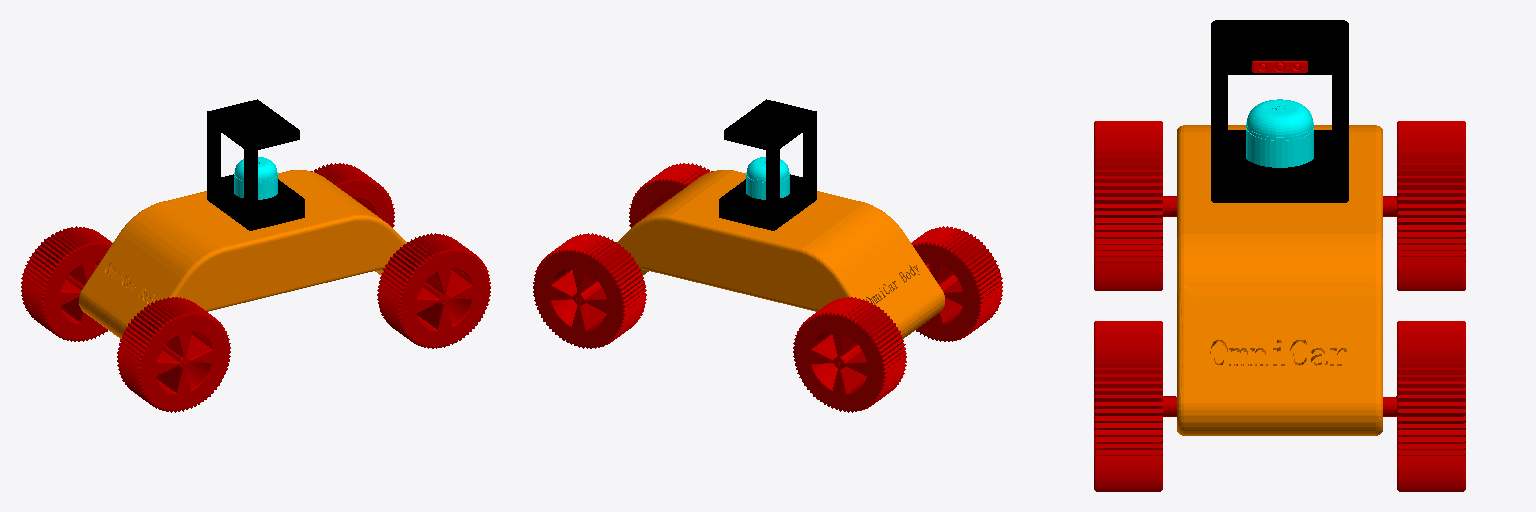
URDF robot description (OmniCar):
<?xml version="1.0" encoding="utf-8"?>
<!-- This URDF was automatically created by SolidWorks to URDF Exporter! Originally created by [author] ([email redacted]) 
     Commit Version: 1.6.0-4-g7f85cfe  Build Version: 1.6.7995.38578
     For more information, please see http://wiki.ros.org/sw_urdf_exporter -->
<robot
  name="OmniCar">
  <link
    name="base_link">
    <inertial>
      <origin
        xyz="-0.0037966 0.0076202 2.2436"
        rpy="0 0 0" />
      <mass
        value="30694" />
      <inertia
        ixx="32682"
        ixy="-20.652"
        ixz="-16.784"
        iyy="139110"
        iyz="1.048"
        izz="152570" />
    </inertial>
    <visual>
      <origin
        xyz="0 0 0"
        rpy="0 0 0" />
      <geometry>
        <mesh
          filename="package://omnicar_description/meshes/base_link.STL" />
      </geometry>
      <material
        name="">
        <color
          rgba="1 0.54902 0 1" />
      </material>
    </visual>
    <collision>
      <origin
        xyz="0 0 0"
        rpy="0 0 0" />
      <geometry>
        <mesh
          filename="package://omnicar_description/meshes/base_link.STL" />
      </geometry>
    </collision>
  </link>
  <link
    name="lfw_link">
    <inertial>
      <origin
        xyz="-5.9137E-05 1.4802 0.013075"
        rpy="0 0 0" />
      <mass
        value="3564.1" />
      <inertia
        ixx="1903.6"
        ixy="0.0042877"
        ixz="-0.00063501"
        iyy="3077.9"
        iyz="-0.92374"
        izz="1903.7" />
    </inertial>
    <visual>
      <origin
        xyz="0 0 0"
        rpy="0 0 0" />
      <geometry>
        <mesh
          filename="package://omnicar_description/meshes/lfw_link.STL" />
      </geometry>
      <material
        name="">
        <color
          rgba="0.79216 0 0 1" />
      </material>
    </visual>
    <collision>
      <origin
        xyz="0 0 0"
        rpy="0 0 0" />
      <geometry>
        <mesh
          filename="package://omnicar_description/meshes/lfw_link.STL" />
      </geometry>
    </collision>
  </link>
  <joint
    name="lfw_joint"
    type="continuous">
    <origin
      xyz="3.43623010736038 0.7075 1.22983820805844"
      rpy="0 0 0" />
    <parent
      link="base_link" />
    <child
      link="lfw_link" />
    <axis
      xyz="0 1 0" />
  </joint>
  <link
    name="lbw_link">
    <inertial>
      <origin
        xyz="0.00021166 1.4802 0.013074"
        rpy="0 0 0" />
      <mass
        value="3564.1" />
      <inertia
        ixx="1903.6"
        ixy="-0.014845"
        ixz="0.0022512"
        iyy="3077.9"
        iyz="-0.92363"
        izz="1903.7" />
    </inertial>
    <visual>
      <origin
        xyz="0 0 0"
        rpy="0 0 0" />
      <geometry>
        <mesh
          filename="package://omnicar_description/meshes/lbw_link.STL" />
      </geometry>
      <material
        name="">
        <color
          rgba="0.79216 0 0 1" />
      </material>
    </visual>
    <collision>
      <origin
        xyz="0 0 0"
        rpy="0 0 0" />
      <geometry>
        <mesh
          filename="package://omnicar_description/meshes/lbw_link.STL" />
      </geometry>
    </collision>
  </link>
  <joint
    name="lbw_joint"
    type="continuous">
    <origin
      xyz="-3.44119528769102 0.7075 1.22983820805844"
      rpy="0 0 0" />
    <parent
      link="base_link" />
    <child
      link="lbw_link" />
    <axis
      xyz="0 1 0" />
  </joint>
  <link
    name="rfw_link">
    <inertial>
      <origin
        xyz="-6.9733E-05 -1.4802 0.013075"
        rpy="0 0 0" />
      <mass
        value="3564.1" />
      <inertia
        ixx="1903.6"
        ixy="-0.0048169"
        ixz="-0.00073967"
        iyy="3077.9"
        iyz="0.92373"
        izz="1903.7" />
    </inertial>
    <visual>
      <origin
        xyz="0 0 0"
        rpy="0 0 0" />
      <geometry>
        <mesh
          filename="package://omnicar_description/meshes/rfw_link.STL" />
      </geometry>
      <material
        name="">
        <color
          rgba="0.79216 0 0 1" />
      </material>
    </visual>
    <collision>
      <origin
        xyz="0 0 0"
        rpy="0 0 0" />
      <geometry>
        <mesh
          filename="package://omnicar_description/meshes/rfw_link.STL" />
      </geometry>
    </collision>
  </link>
  <joint
    name="rfw_joint"
    type="continuous">
    <origin
      xyz="3.43623010736038 -0.692500000000002 1.22983820805844"
      rpy="0 0 0" />
    <parent
      link="base_link" />
    <child
      link="rfw_link" />
    <axis
      xyz="0 1 0" />
  </joint>
  <link
    name="rbw_link">
    <inertial>
      <origin
        xyz="0.00025519 -1.4802 0.013073"
        rpy="0 0 0" />
      <mass
        value="3564.1" />
      <inertia
        ixx="1903.6"
        ixy="0.01814"
        ixz="0.0027324"
        iyy="3077.9"
        iyz="0.92357"
        izz="1903.7" />
    </inertial>
    <visual>
      <origin
        xyz="0 0 0"
        rpy="0 0 0" />
      <geometry>
        <mesh
          filename="package://omnicar_description/meshes/rbw_link.STL" />
      </geometry>
      <material
        name="">
        <color
          rgba="0.79216 0 0 1" />
      </material>
    </visual>
    <collision>
      <origin
        xyz="0 0 0"
        rpy="0 0 0" />
      <geometry>
        <mesh
          filename="package://omnicar_description/meshes/rbw_link.STL" />
      </geometry>
    </collision>
  </link>
  <joint
    name="rbw_joint"
    type="continuous">
    <origin
      xyz="-3.44119528769102 -0.692499999999999 1.22983820805844"
      rpy="0 0 0" />
    <parent
      link="base_link" />
    <child
      link="rbw_link" />
    <axis
      xyz="0 1 0" />
  </joint>
  <link
    name="imu_link">
    <inertial>
      <origin
        xyz="5.0399E-05 0.00010385 -0.13131"
        rpy="0 0 0" />
      <mass
        value="140.08" />
      <inertia
        ixx="5.9042"
        ixy="-0.0018654"
        ixz="0.00083804"
        iyy="5.9039"
        iyz="0.0017268"
        izz="9.2672" />
    </inertial>
    <visual>
      <origin
        xyz="0 0 0"
        rpy="0 0 0" />
      <geometry>
        <mesh
          filename="package://omnicar_description/meshes/imu_link.STL" />
      </geometry>
      <material
        name="">
        <color
          rgba="0 1 0 1" />
      </material>
    </visual>
    <collision>
      <origin
        xyz="0 0 0"
        rpy="0 0 0" />
      <geometry>
        <mesh
          filename="package://omnicar_description/meshes/imu_link.STL" />
      </geometry>
    </collision>
  </link>
  <joint
    name="imu_joint"
    type="fixed">
    <origin
      xyz="-0.00248259016532093 0.00750000000000028 2.19928352126754"
      rpy="0 0 0" />
    <parent
      link="base_link" />
    <child
      link="imu_link" />
    <axis
      xyz="0 0 1" />
  </joint>
  <link
    name="fix_link">
    <inertial>
      <origin
        xyz="-0.084125 -0.00015823 0.85499"
        rpy="0 0 0" />
      <mass
        value="2209.3" />
      <inertia
        ixx="2483.3"
        ixy="-0.21299"
        ixz="138.14"
        iyy="2057.6"
        iyz="-0.20622"
        izz="1272.8" />
    </inertial>
    <visual>
      <origin
        xyz="0 0 0"
        rpy="0 0 0" />
      <geometry>
        <mesh
          filename="package://omnicar_description/meshes/fix_link.STL" />
      </geometry>
      <material
        name="">
        <color
          rgba="0 0 0 1" />
      </material>
    </visual>
    <collision>
      <origin
        xyz="0 0 0"
        rpy="0 0 0" />
      <geometry>
        <mesh
          filename="package://omnicar_description/meshes/fix_link.STL" />
      </geometry>
    </collision>
  </link>
  <joint
    name="fix_joint"
    type="fixed">
    <origin
      xyz="-0.0024825901653206 0.00750000000000028 3.22052735469429"
      rpy="0 0 0" />
    <parent
      link="base_link" />
    <child
      link="fix_link" />
    <axis
      xyz="0 0 0" />
  </joint>
  <link
    name="laser_link">
    <inertial>
      <origin
        xyz="-3.4871E-06 -9.7929E-06 0.12147"
        rpy="0 0 0" />
      <mass
        value="574.73" />
      <inertia
        ixx="61.487"
        ixy="2.4076E-06"
        ixz="0.00075803"
        iyy="61.49"
        iyz="0.0021292"
        izz="67.671" />
    </inertial>
    <visual>
      <origin
        xyz="0 0 0"
        rpy="0 0 0" />
      <geometry>
        <mesh
          filename="package://omnicar_description/meshes/laser_link.STL" />
      </geometry>
      <material
        name="">
        <color
          rgba="0 1 1 1" />
      </material>
    </visual>
    <collision>
      <origin
        xyz="0 0 0"
        rpy="0 0 0" />
      <geometry>
        <mesh
          filename="package://omnicar_description/meshes/laser_link.STL" />
      </geometry>
    </collision>
  </link>
  <joint
    name="laser_joint"
    type="continuous">
    <origin
      xyz="-0.00248259016532015 0.00750000000000028 3.87052735469429"
      rpy="0 0 0" />
    <parent
      link="base_link" />
    <child
      link="laser_link" />
    <axis
      xyz="0 0 1" />
  </joint>
  <link
    name="camera_link">
    <inertial>
      <origin
        xyz="0.14853 2.3141E-06 -0.00027853"
        rpy="0 0 0" />
      <mass
        value="46.659" />
      <inertia
        ixx="2.635"
        ixy="3.4191E-05"
        ixz="3.6657E-06"
        iyy="0.49825"
        iyz="-9.4623E-06"
        izz="2.8248" />
    </inertial>
    <visual>
      <origin
        xyz="0 0 0"
        rpy="0 0 0" />
      <geometry>
        <mesh
          filename="package://omnicar_description/meshes/camera_link.STL" />
      </geometry>
      <material
        name="">
        <color
          rgba="1 0 0 1" />
      </material>
    </visual>
    <collision>
      <origin
        xyz="0 0 0"
        rpy="0 0 0" />
      <geometry>
        <mesh
          filename="package://omnicar_description/meshes/camera_link.STL" />
      </geometry>
    </collision>
  </link>
  <joint
    name="camera_joint"
    type="fixed">
    <origin
      xyz="0.29751740983468 0.0074999999999994 5.34552735469429"
      rpy="0 0 0" />
    <parent
      link="base_link" />
    <child
      link="camera_link" />
    <axis
      xyz="0 0 0" />
  </joint>
</robot>

--- Render facts (derived) ---
The picture shows the robot from 3 angles, left to right: view 1: azimuth 30°, elevation 25°; view 2: azimuth 150°, elevation 25°; view 3: azimuth 270°, elevation 25°; orthographic projection.
Model OmniCar with 9 links and 8 joints (5 continuous, 3 fixed), rooted at base_link, posed all joints at 0.
Visible links, largest first — view 1: base_link, rfw_link, rbw_link, fix_link, lbw_link, lfw_link, laser_link; view 2: base_link, lfw_link, lbw_link, fix_link, rbw_link, rfw_link, laser_link; view 3: base_link, fix_link, rfw_link, lfw_link, lbw_link, rbw_link, laser_link, camera_link.
Boxes of the visible links, box(x1,y1,x2,y2) form: base_link: box(79, 170, 406, 338); rfw_link: box(377, 233, 490, 348); rbw_link: box(117, 297, 230, 412); fix_link: box(207, 99, 304, 230); lbw_link: box(21, 226, 112, 341); lfw_link: box(311, 163, 394, 227); laser_link: box(234, 157, 277, 199); base_link: box(617, 170, 944, 338); lfw_link: box(533, 233, 646, 348); lbw_link: box(793, 297, 906, 412); fix_link: box(719, 99, 816, 230); rbw_link: box(911, 226, 1002, 341); rfw_link: box(629, 163, 712, 227); laser_link: box(746, 157, 789, 199); base_link: box(1177, 125, 1382, 435); fix_link: box(1211, 20, 1348, 202); rfw_link: box(1094, 321, 1176, 491); lfw_link: box(1383, 321, 1465, 491); lbw_link: box(1383, 121, 1465, 290); rbw_link: box(1094, 121, 1176, 290); laser_link: box(1246, 99, 1313, 167); camera_link: box(1252, 61, 1307, 72).
Size in the robot's own frame: 9.36 by 5.4 by 5.47 metres.
Meshes: 9 distinct files referenced, 9 mesh visuals loaded (9 binary STL).